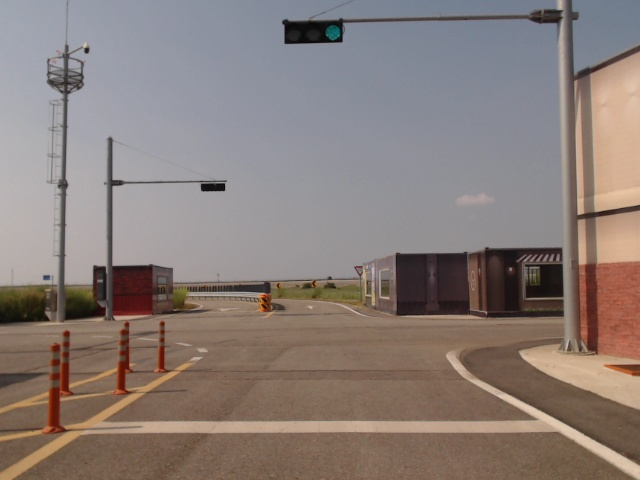green_3: (284, 22, 344, 44)
